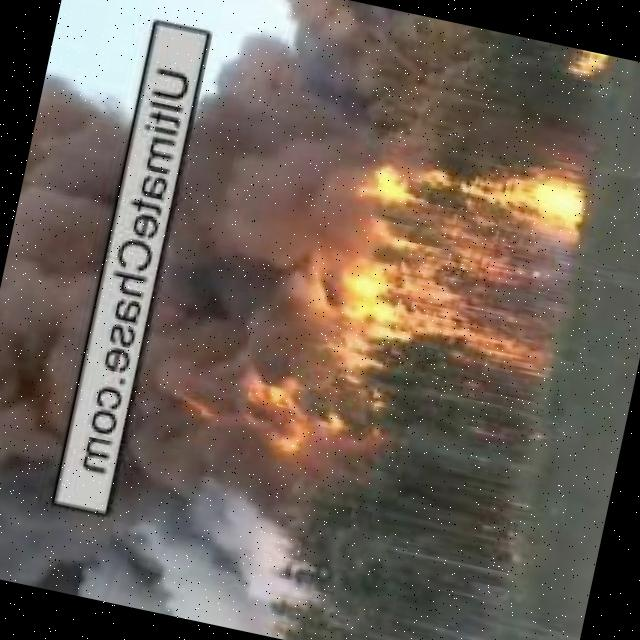fire: (312, 131, 594, 393), (183, 356, 347, 467), (559, 44, 617, 80)
